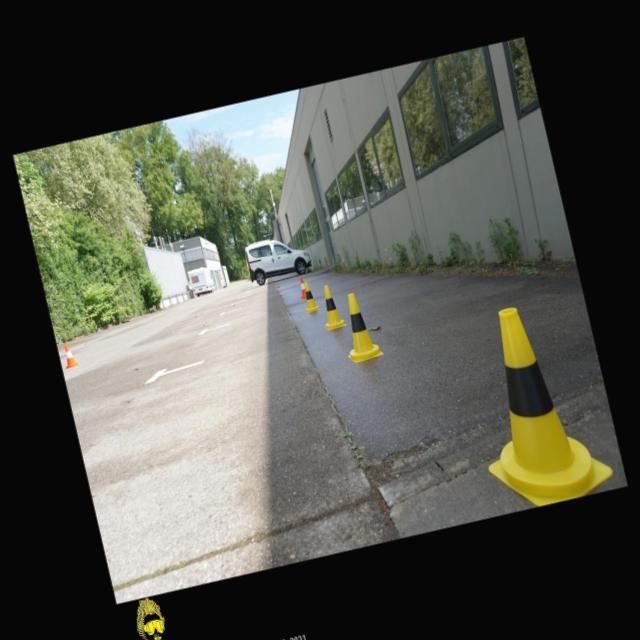orange_cone: (61, 342, 78, 368), (296, 277, 306, 298)
yellow_cone: (453, 292, 616, 514), (334, 289, 384, 364), (314, 282, 346, 331), (300, 280, 320, 313)
